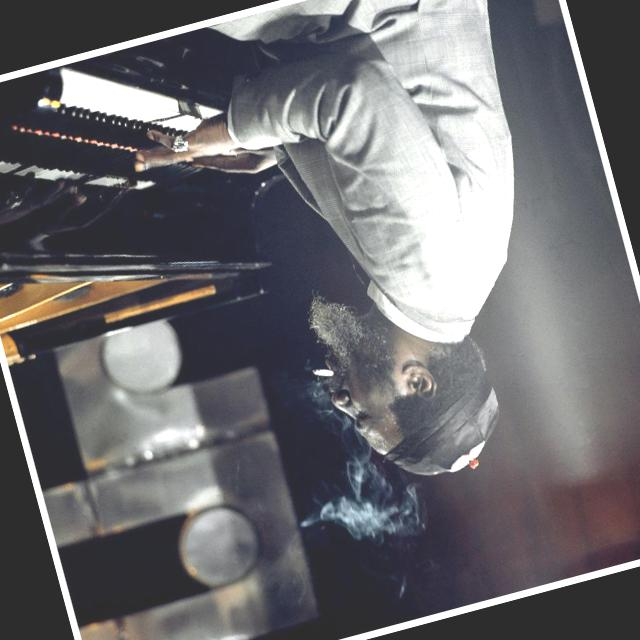cigarette: (292, 354, 348, 398)
